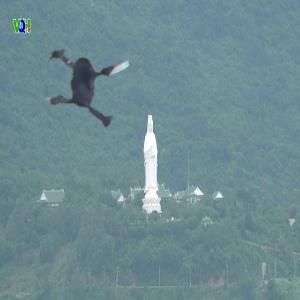drone: (31, 7, 178, 154)
